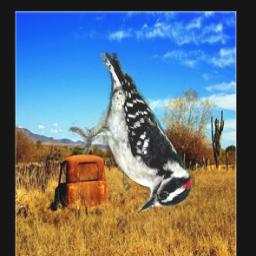Woodpecker: (67, 53, 194, 211)
